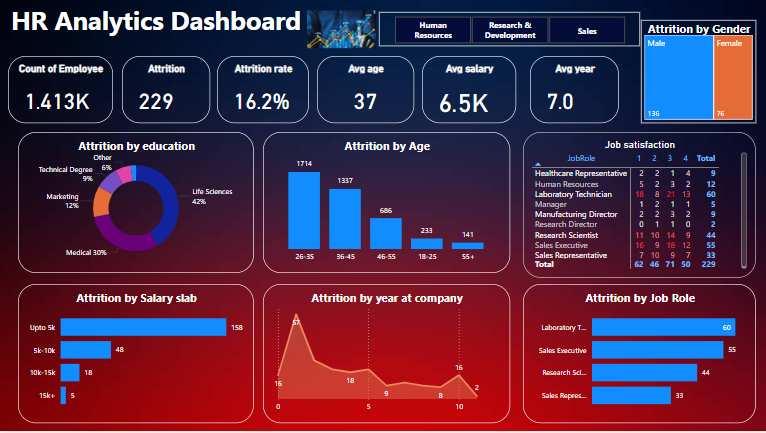

What the dashboard file says about the page in this screenshot:
{"tool":"powerbi","page":{"name":"Page 1","canvas":[1280,720],"ordinal":0},"visuals":[{"type":"cardVisual","title":"Count of Employee","fields":{"Data":["CountNonNull(HR_Analytics.EmpID)"]},"box":[13.3,95,175,111.7],"z":0},{"type":"cardVisual","title":"Attrition","fields":{"Data":["Sum(HR_Analytics.Attrition_count)"]},"box":[203.3,95,146.7,111.7],"z":1000},{"type":"cardVisual","title":"Attrition rate","fields":{"Data":["HR_Analytics.Attrition_rate"]},"box":[361.7,95,153.3,111.7],"z":2000},{"type":"cardVisual","title":"Avg age","fields":{"Data":["Avg(HR_Analytics.Age)"]},"box":[528.3,95,161.7,111.7],"z":3000},{"type":"cardVisual","title":"Avg salary","fields":{"Data":["Avg(HR_Analytics.MonthlyIncome)"]},"box":[703.3,95,156.7,111.7],"z":4000},{"type":"cardVisual","title":"Avg year","fields":{"Data":["Avg(HR_Analytics.YearsAtCompany)"]},"box":[883.3,95,148.3,111.7],"z":5000},{"type":"donutChart","title":"Attrition by education","fields":{"Category":["HR_Analytics.EducationField"],"Y":["Sum(HR_Analytics.Education)"]},"box":[30,221.7,393.3,235],"z":6000},{"type":"columnChart","title":"Attrition by Age","fields":{"Category":["HR_Analytics.AgeGroup"],"Y":["Sum(HR_Analytics.Education)"]},"box":[438.3,221.7,411.7,235],"z":7000},{"type":"pivotTable","title":"Job satisfaction","fields":{"Rows":["HR_Analytics.JobRole"],"Columns":["HR_Analytics.JobSatisfaction"],"Values":["Sum(HR_Analytics.Attrition_count)"]},"box":[871.7,221.7,388.3,243.3],"z":8000},{"type":"barChart","title":"Attrition by Salary slab","fields":{"Category":["HR_Analytics.SalarySlab"],"Y":["Sum(HR_Analytics.Attrition_count)"]},"box":[30,475,393.3,231.7],"z":9000},{"type":"barChart","title":"Attrition by Job Role","fields":{"Category":["HR_Analytics.JobRole"],"Y":["Sum(HR_Analytics.Attrition_count)"]},"box":[871.7,475,388.3,231.7],"z":10000},{"type":"areaChart","title":"Attrition by year at company","fields":{"Category":["HR_Analytics.YearsAtCompany"],"Y":["Sum(HR_Analytics.Attrition_count)"]},"box":[438.3,475,411.7,231.7],"z":11000},{"type":"treemap","title":"Attrition by Gender","fields":{"Group":["HR_Analytics.Gender"],"Values":["Sum(HR_Analytics.Attrition_count)"]},"box":[1068.3,35,191.7,171.7],"z":12000},{"type":"slicer","fields":{"Values":["HR_Analytics.Department"]},"box":[631.7,21.7,435,56.7],"z":13000},{"type":"textbox","box":[13.3,0,515,78.3],"z":14000},{"type":"image","box":[506.7,0,125,100],"z":14001}]}

Visuals, with their boxes in screenshot pixels (x1, y1, x2, y2), scaled from the page's 1280x720 canvas onto the 766x433 screenshot:
"Count of Employee" cardVisual: {"left": 8, "top": 57, "right": 113, "bottom": 124}
"Attrition" cardVisual: {"left": 122, "top": 57, "right": 209, "bottom": 124}
"Attrition rate" cardVisual: {"left": 216, "top": 57, "right": 308, "bottom": 124}
"Avg age" cardVisual: {"left": 316, "top": 57, "right": 413, "bottom": 124}
"Avg salary" cardVisual: {"left": 421, "top": 57, "right": 515, "bottom": 124}
"Avg year" cardVisual: {"left": 529, "top": 57, "right": 617, "bottom": 124}
"Attrition by education" donutChart: {"left": 18, "top": 133, "right": 253, "bottom": 275}
"Attrition by Age" columnChart: {"left": 262, "top": 133, "right": 509, "bottom": 275}
"Job satisfaction" pivotTable: {"left": 522, "top": 133, "right": 754, "bottom": 280}
"Attrition by Salary slab" barChart: {"left": 18, "top": 286, "right": 253, "bottom": 425}
"Attrition by Job Role" barChart: {"left": 522, "top": 286, "right": 754, "bottom": 425}
"Attrition by year at company" areaChart: {"left": 262, "top": 286, "right": 509, "bottom": 425}
"Attrition by Gender" treemap: {"left": 639, "top": 21, "right": 754, "bottom": 124}
slicer - HR_Analytics.Department: {"left": 378, "top": 13, "right": 638, "bottom": 47}
textbox: {"left": 8, "top": 0, "right": 316, "bottom": 47}
image: {"left": 303, "top": 0, "right": 378, "bottom": 60}
